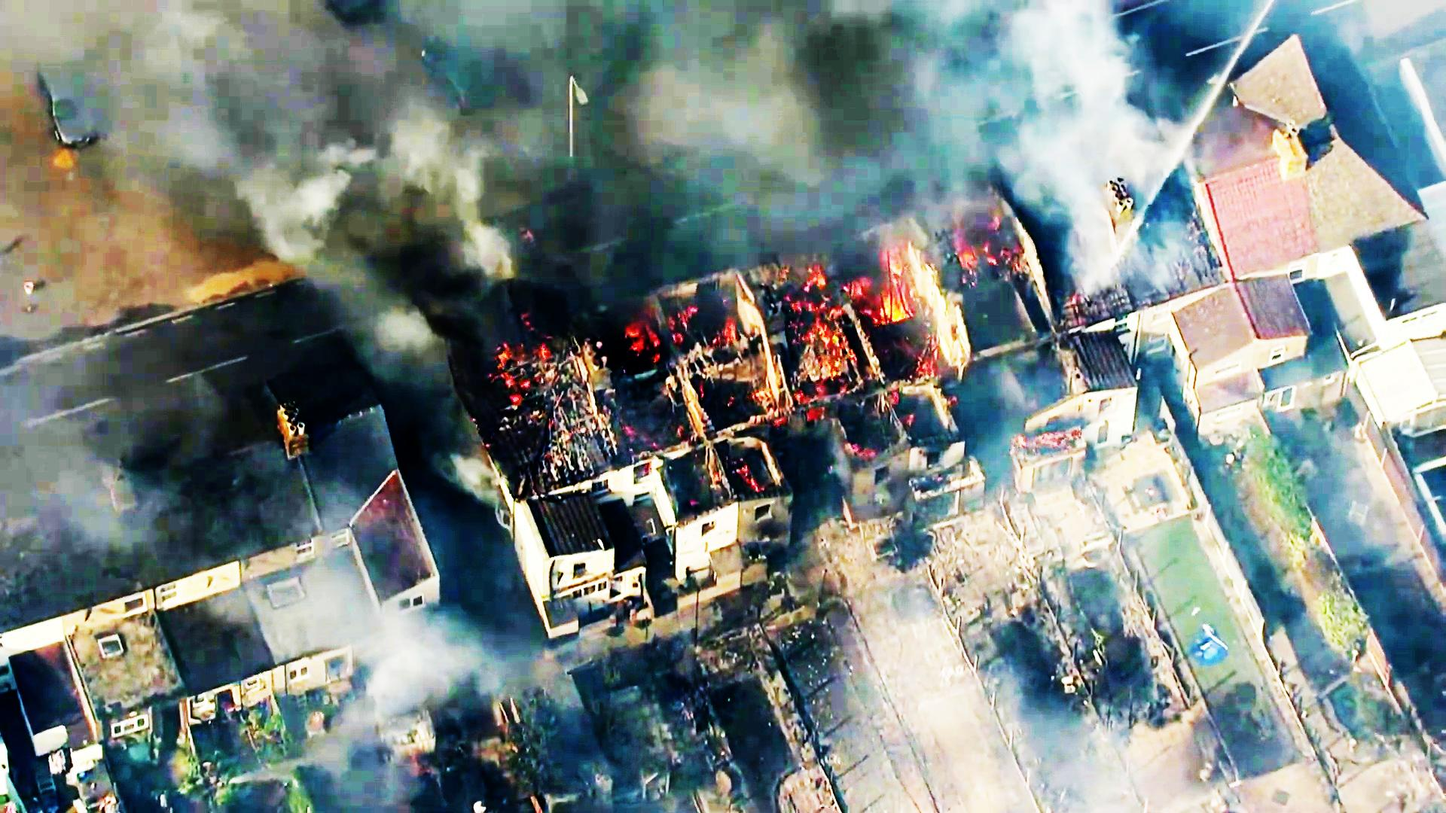fire: (828, 247, 962, 324)
smoke: (221, 34, 536, 250), (1034, 29, 1175, 247)
